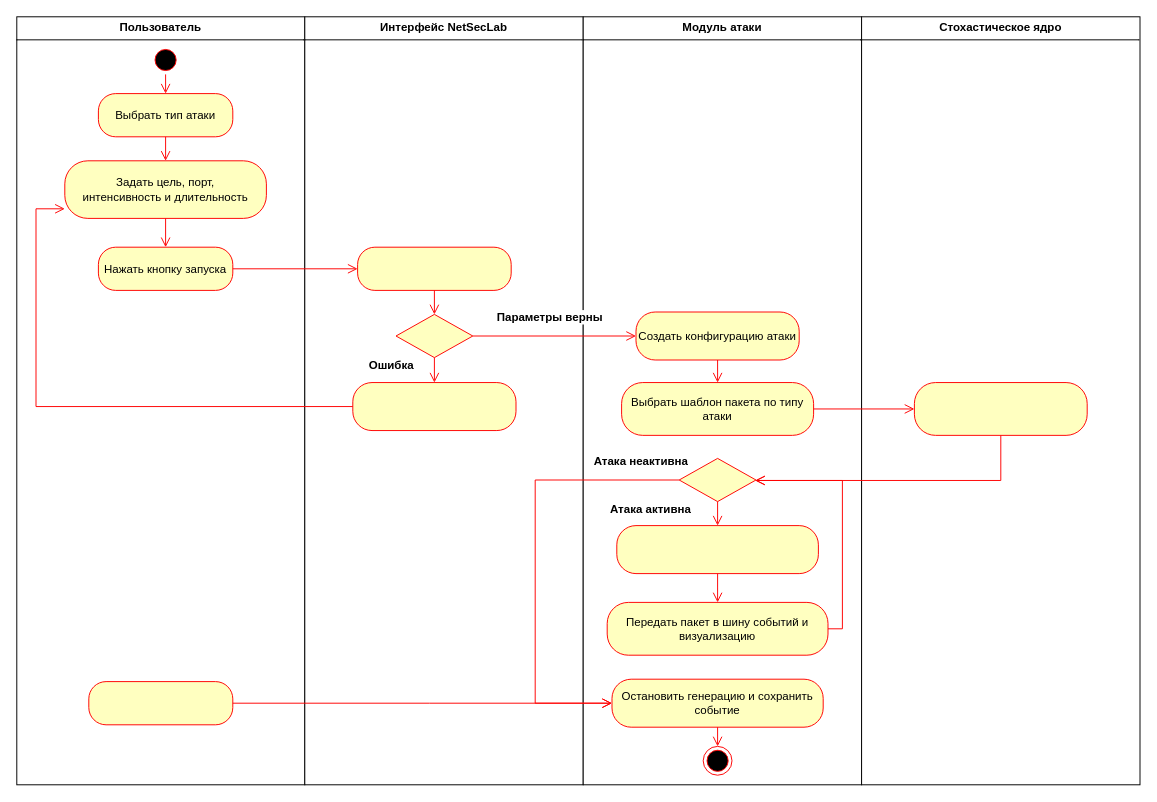
Image size: 1157x802. Some labels were removed from this diagram. The shapes that lost their labels are listed below. From the top down, each one's box as (x1, y1, x2, y2) in pixels, then its label:
(357, 246, 511, 290): Проверить параметры запуска
(352, 382, 516, 431): Показать сообщение об ошибке
(913, 382, 1087, 435): Рассчитать интервалы и случайный шум
(616, 525, 818, 574): Сформировать логический пакет
(88, 681, 233, 725): Нажать остановку атаки
